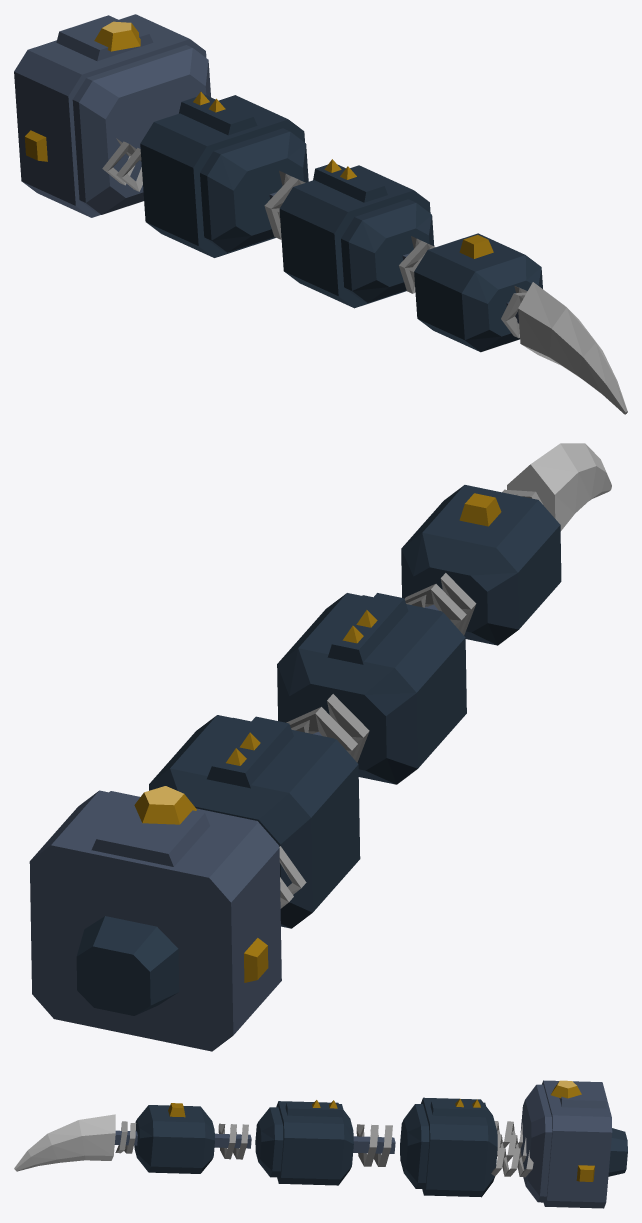
Rendered from articulated-claw-finger-16f729.glb.
The picture shows the model from 3 angles, top to bottom: view 1: azimuth 30°, elevation 25°; view 2: azimuth 150°, elevation 25°; view 3: azimuth 270°, elevation 25°; orthographic projection. The views are drawn at different scales.
Visible parts, largest first — view 1: ring-finger-phalanx-proximal, ring-finger-phalanx-distal, ring-finger-phalanx-intermediate; view 2: ring-finger-phalanx-proximal, ring-finger-phalanx-intermediate, ring-finger-phalanx-distal; view 3: ring-finger-phalanx-proximal, ring-finger-phalanx-distal, ring-finger-phalanx-intermediate.
Part boxes in pixels (x1,y1,x2,y2): ring-finger-phalanx-proximal: (14, 14, 308, 257); ring-finger-phalanx-distal: (399, 233, 627, 414); ring-finger-phalanx-intermediate: (264, 159, 434, 308); ring-finger-phalanx-proximal: (29, 715, 360, 1051); ring-finger-phalanx-intermediate: (277, 593, 466, 784); ring-finger-phalanx-distal: (401, 443, 611, 645); ring-finger-phalanx-proximal: (400, 1080, 627, 1208); ring-finger-phalanx-distal: (14, 1103, 251, 1173); ring-finger-phalanx-intermediate: (255, 1100, 395, 1185).
Bounding box in the file's own units: 0.0262 × 0.0225 × 0.1149.
